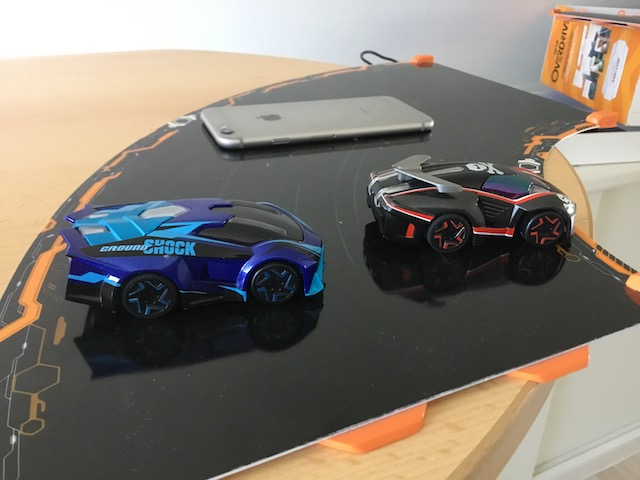car-blue: (58, 192, 331, 326)
car-red: (361, 149, 579, 257)
phone: (198, 92, 437, 154)
